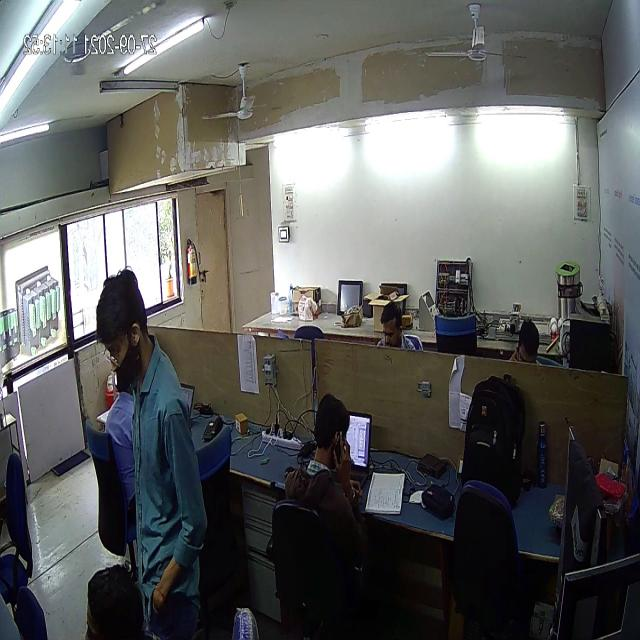adult: (85, 248, 214, 640)
